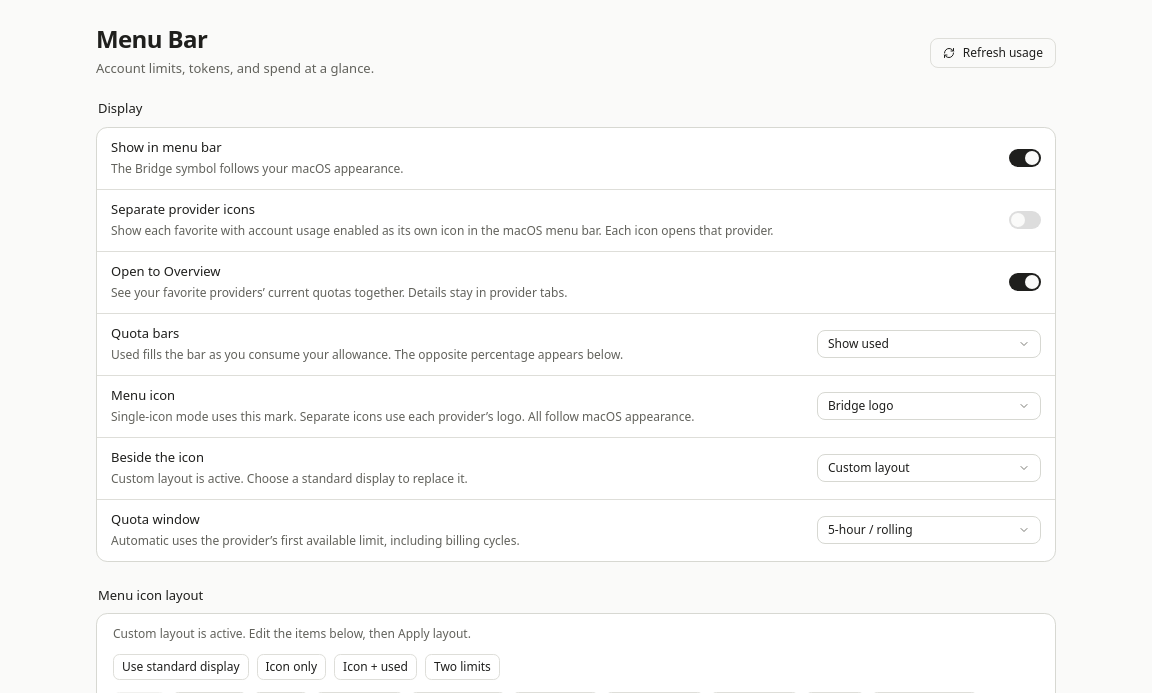
Test: switches to standard display immediately and retains the custom layout if saving fails
Step 1. Click the button "Use standard display" → x=181, y=667, box [113, 654, 248, 680]
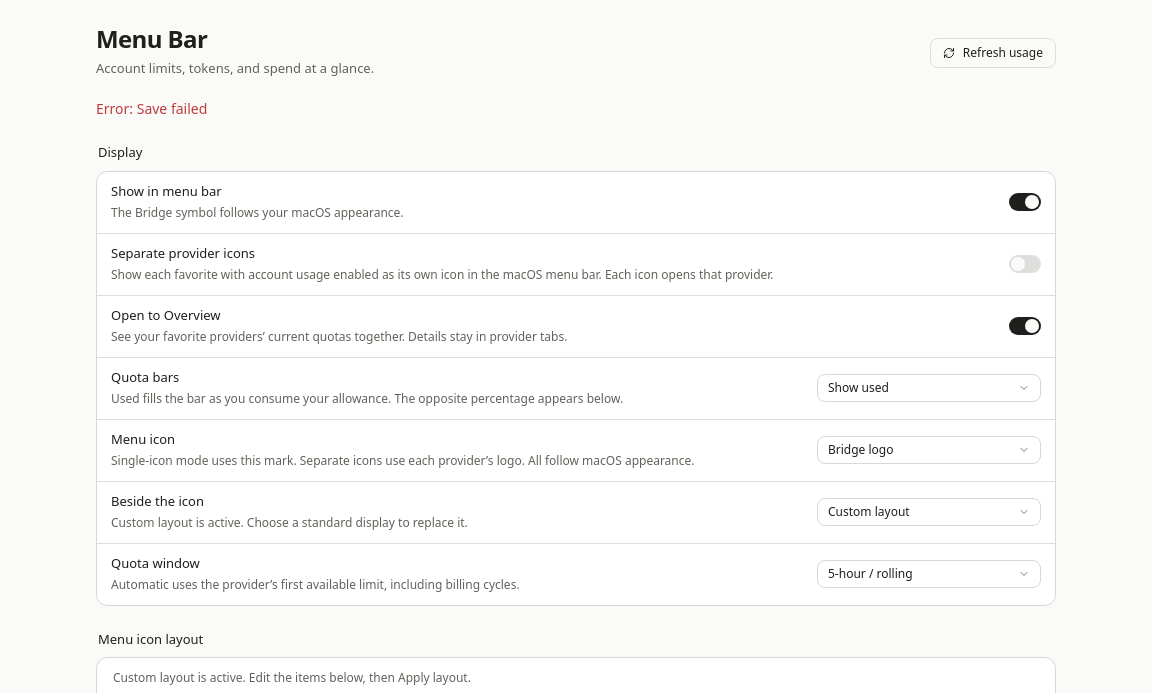
Expected: the dropdown labelled "Custom layout" is shown, [817, 498, 1041, 526]
Expected: the message "Error: Save failed" is shown, [96, 99, 207, 118]
